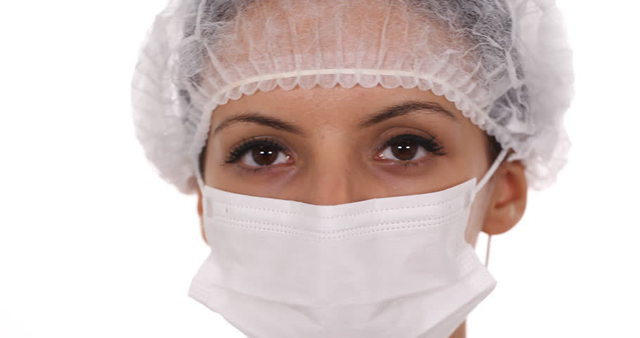mask: (181, 197, 503, 336)
